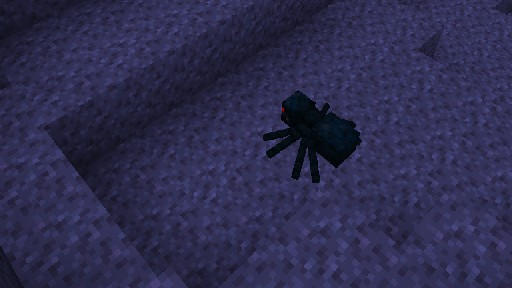cave_spider: (262, 89, 362, 182)
